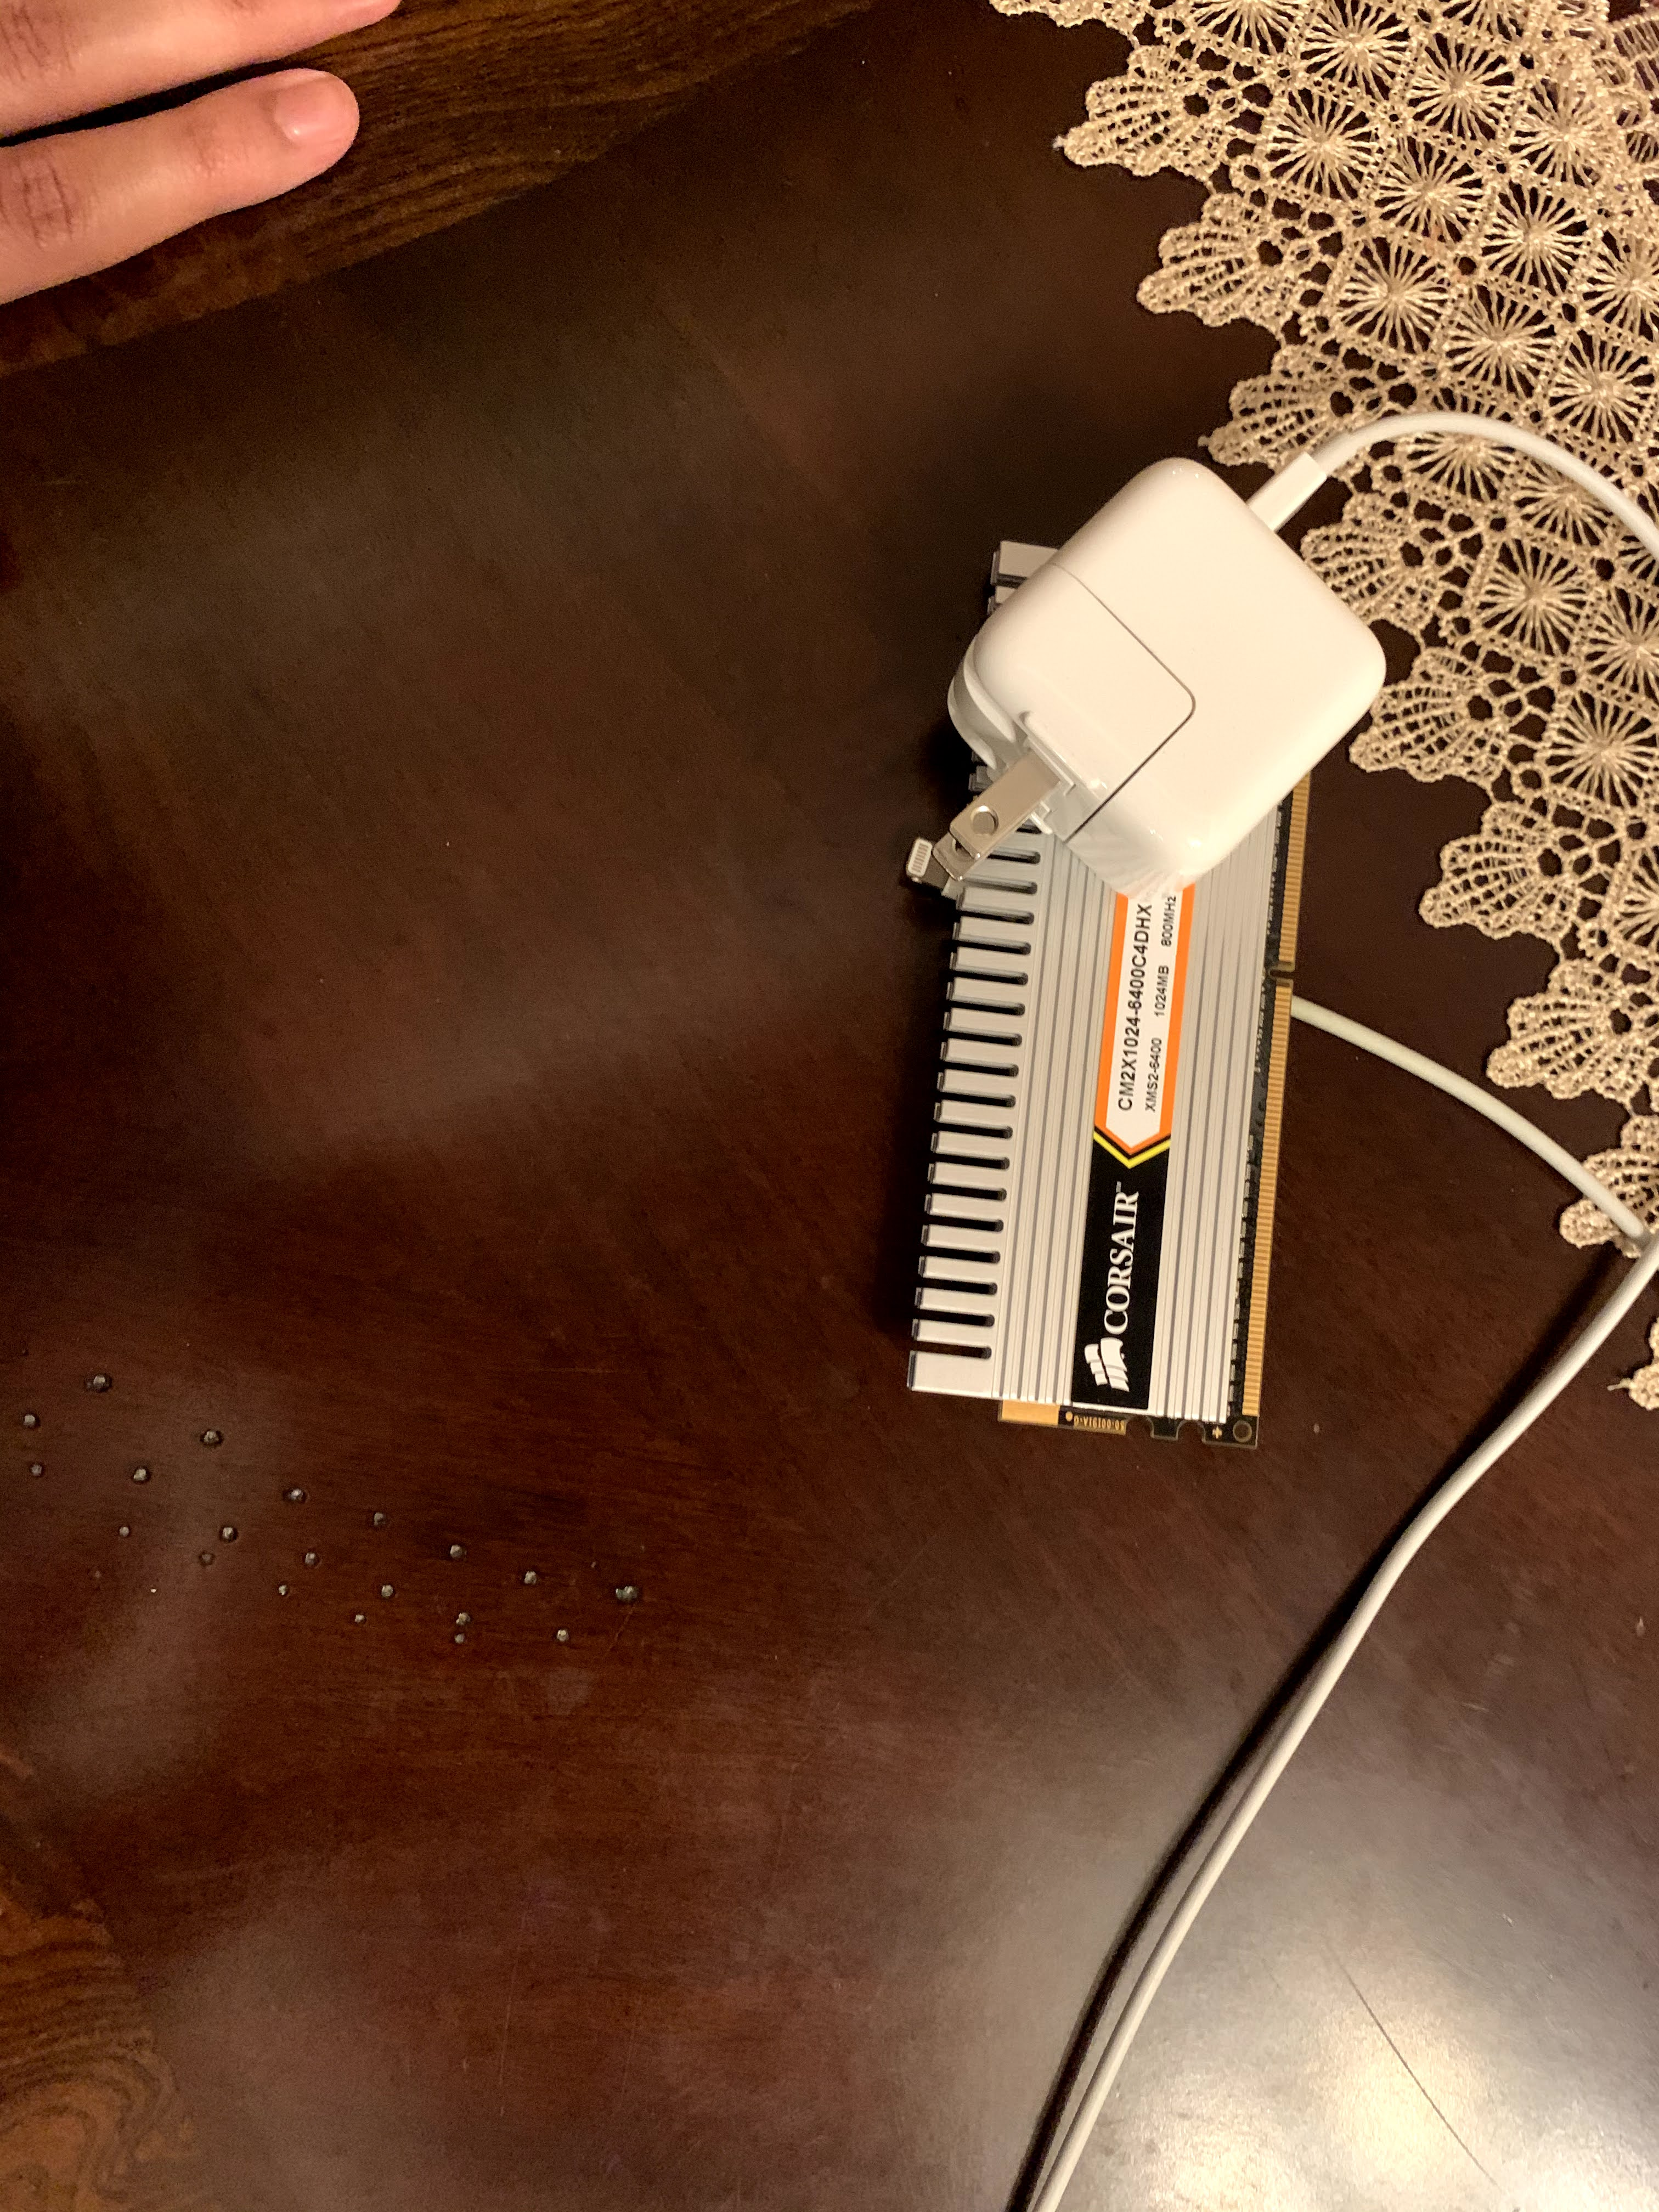Space-debris-medium: (885, 514, 1377, 1447)
